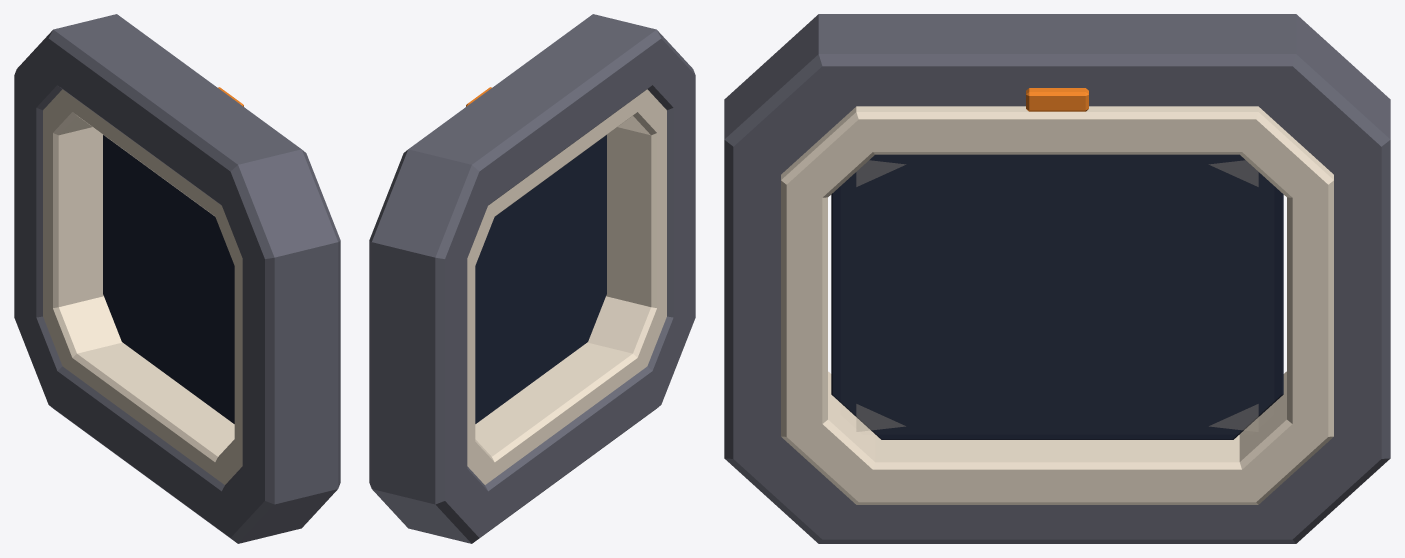
The model's file is window-hab.glb.
The picture shows the model from 3 angles, left to right: view 1: azimuth 30°, elevation 25°; view 2: azimuth 150°, elevation 25°; view 3: azimuth 270°, elevation 25°; orthographic projection. The views are drawn at different scales.
Parts seen in each view (by area): view 1: Slate reinforced frame, Ivory inner frame, Navy glass backing; view 2: Slate reinforced frame, Ivory inner frame, Navy glass backing; view 3: Slate reinforced frame, Navy glass backing, Ivory inner frame, Orange frame indicator.
Boxes of the visible parts, x1,y1,x2,y2 form: Slate reinforced frame: (14,14,340,543); Ivory inner frame: (43,89,242,484); Navy glass backing: (103,135,234,423); Slate reinforced frame: (369,14,695,543); Ivory inner frame: (467,89,666,484); Navy glass backing: (475,135,606,423); Slate reinforced frame: (724,14,1390,543); Navy glass backing: (831,154,1283,439); Ivory inner frame: (781,106,1333,504); Orange frame indicator: (1026,88,1088,111).
Bounding box in the file's own units: 0.2215 × 0.8601 × 1.06.
